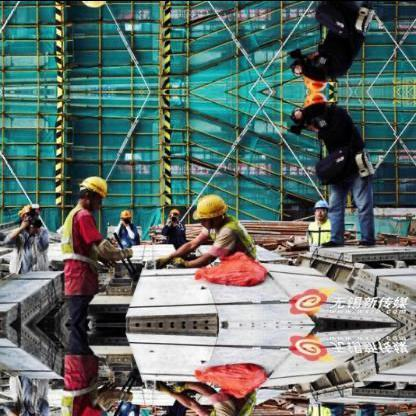Helmet: (192, 193, 228, 223), (76, 175, 106, 207), (301, 60, 329, 90), (301, 90, 329, 119), (17, 203, 37, 228), (312, 199, 328, 217), (117, 208, 131, 222), (75, 0, 107, 6), (168, 208, 178, 222)
